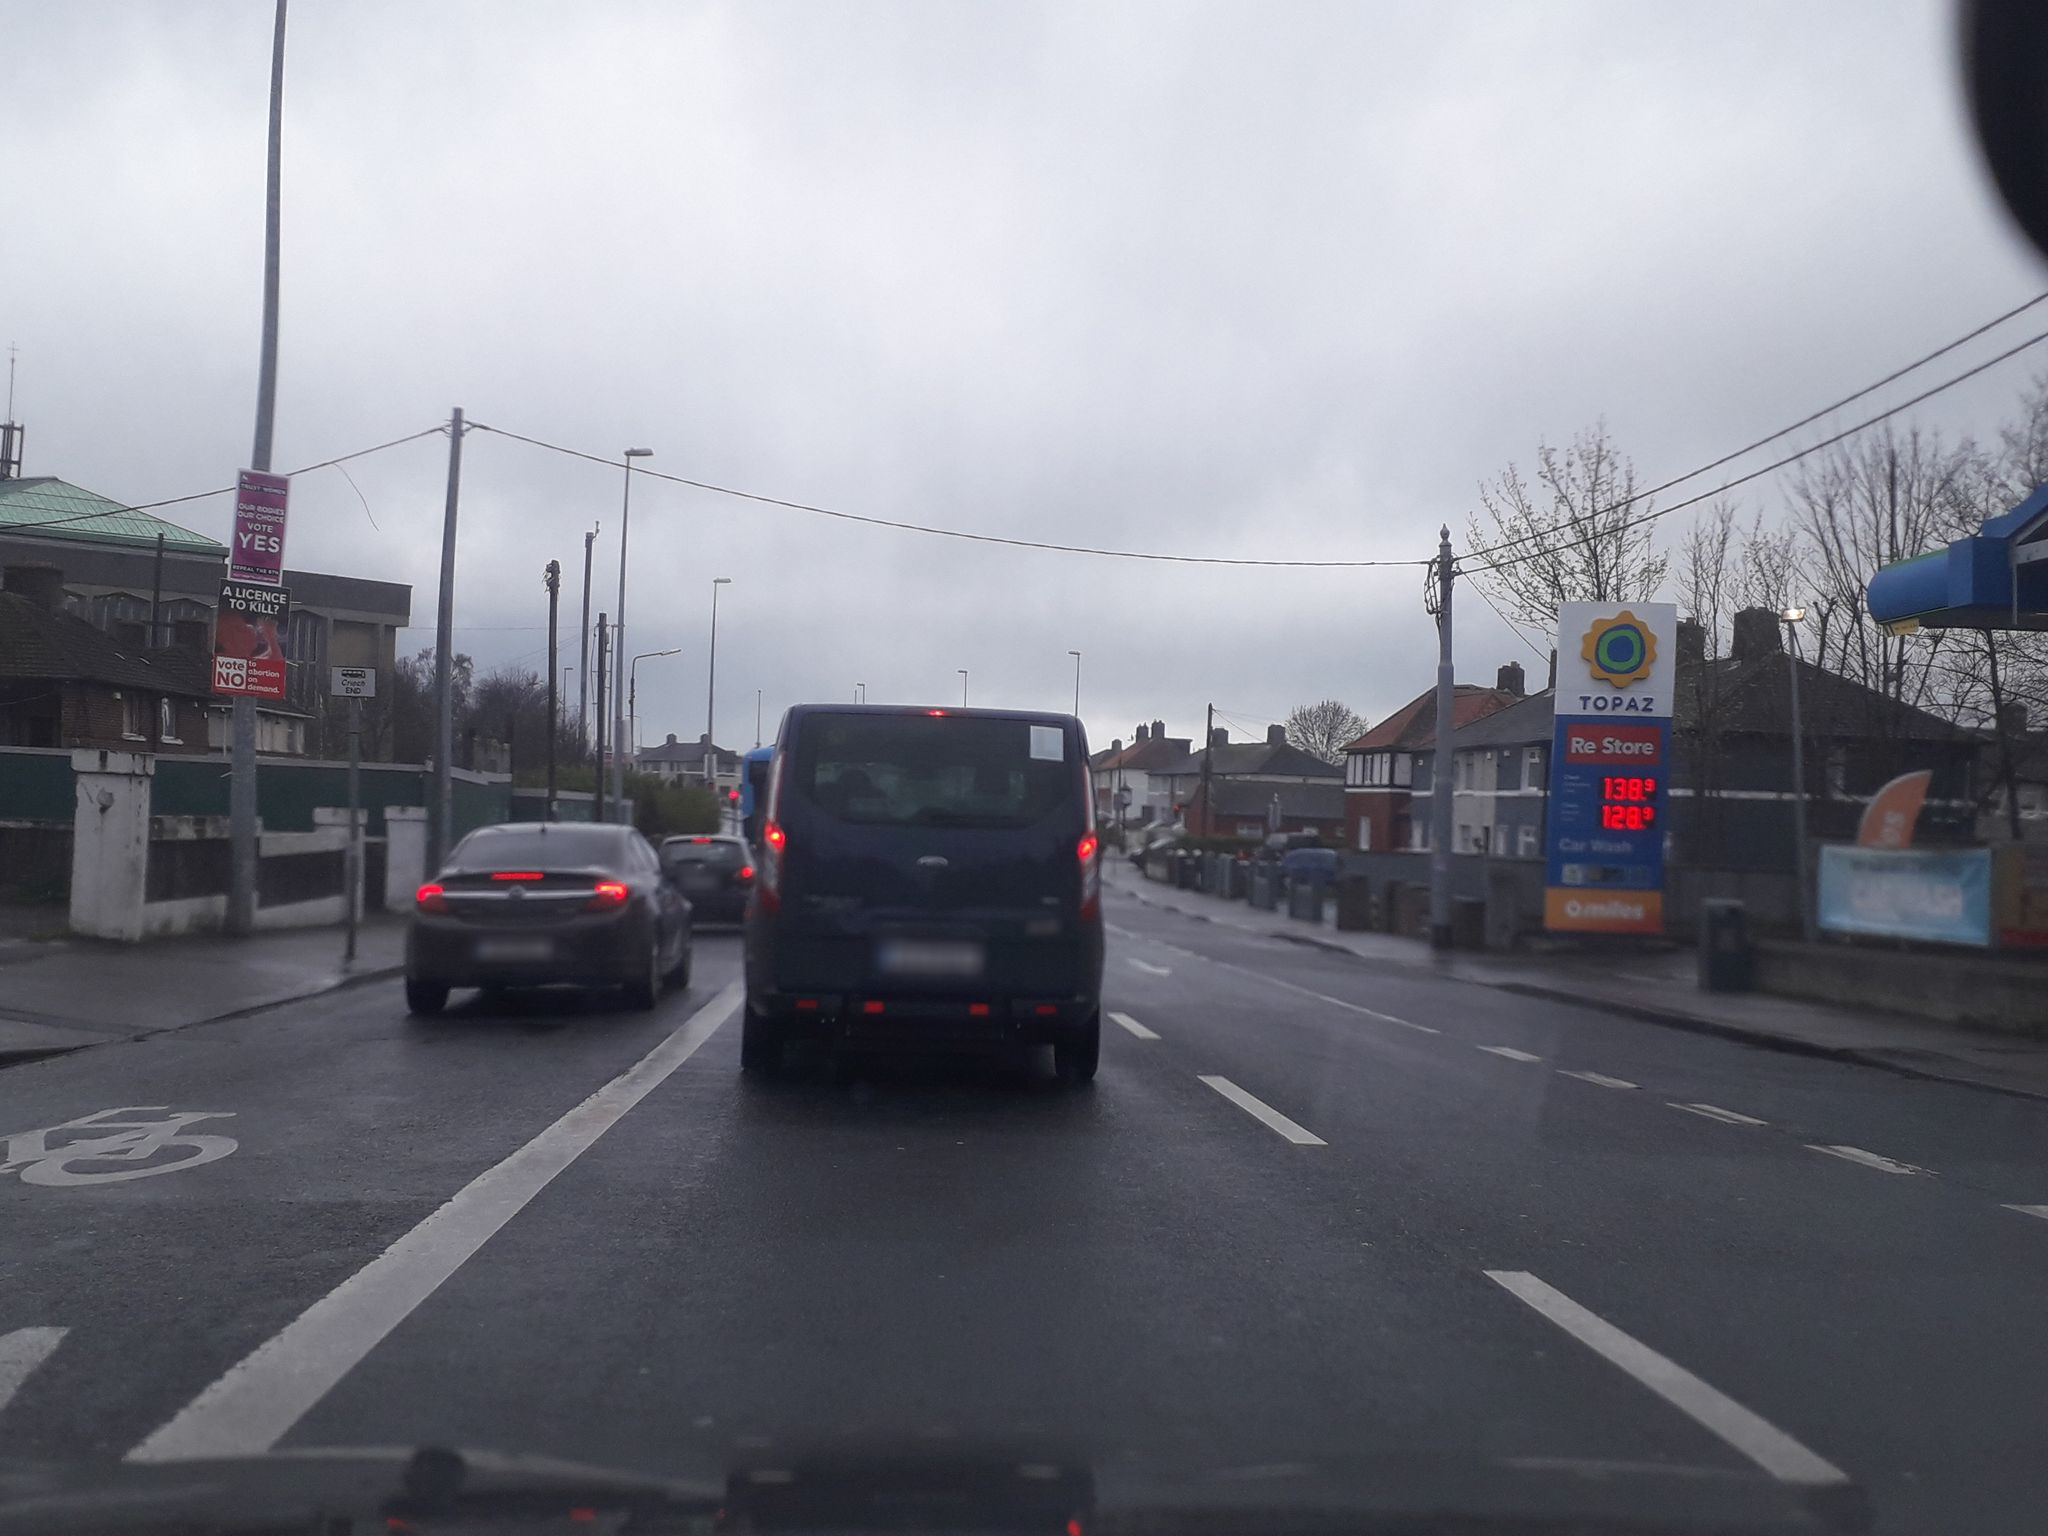vinyl banner: (1804, 833, 2001, 971)
